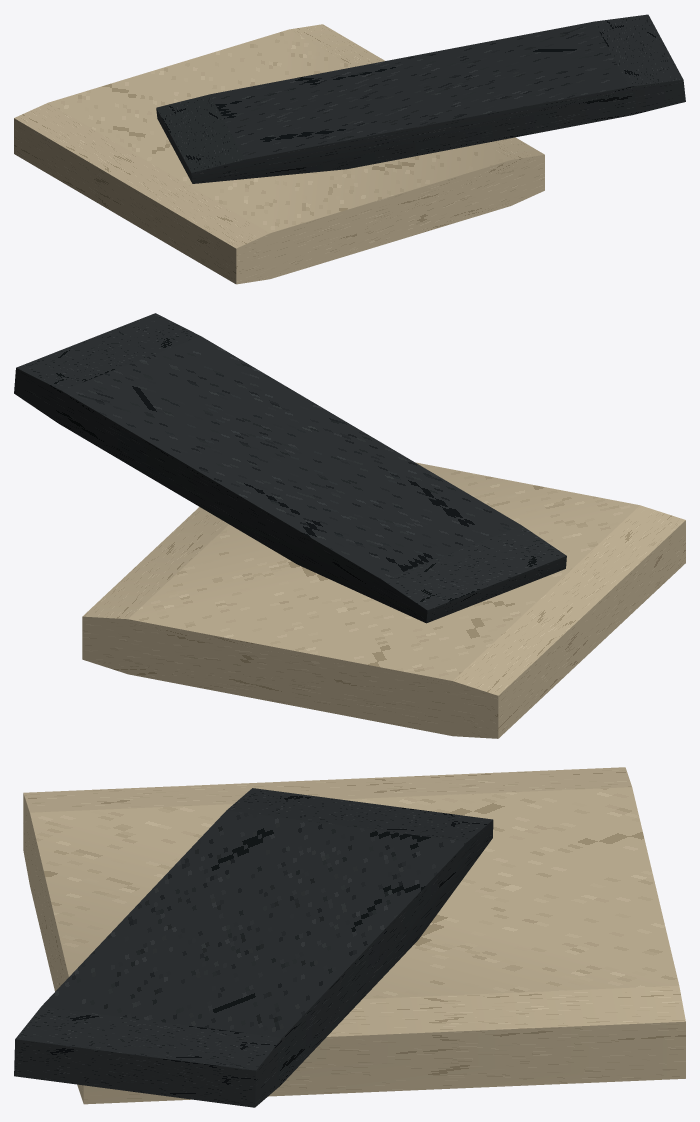
File: debris.glb
The picture shows the model from 3 angles, top to bottom: view 1: azimuth 30°, elevation 25°; view 2: azimuth 150°, elevation 25°; view 3: azimuth 270°, elevation 25°; orthographic projection. The views are drawn at different scales.
Visible parts, largest first — view 1: fallen-tile, torn-board; view 2: fallen-tile, torn-board; view 3: fallen-tile, torn-board.
Part boxes in pixels (x1,y1,x2,y2): fallen-tile: (14, 24, 544, 284); torn-board: (156, 14, 685, 183); fallen-tile: (82, 462, 685, 738); torn-board: (14, 313, 566, 623); fallen-tile: (23, 767, 685, 1104); torn-board: (14, 788, 493, 1107).
Bounding box in the file's own units: 0.9475 × 0.1793 × 0.6661.
Materials: 1 (1 with a texture image).
